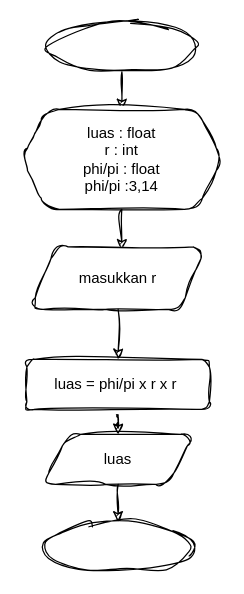
The diagram is 244 pixels wide and 594 high, and some of its shapes have lost their labels. Here are the shapes that lost their labels. From the top down, the box of each, then its label:
(46, 21, 197, 72): Mulai
(42, 521, 193, 572): Selesai
